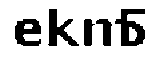6: (121, 2, 150, 51)
e: (9, 15, 42, 50)
k: (46, 3, 81, 51)
m: (81, 16, 125, 50)
